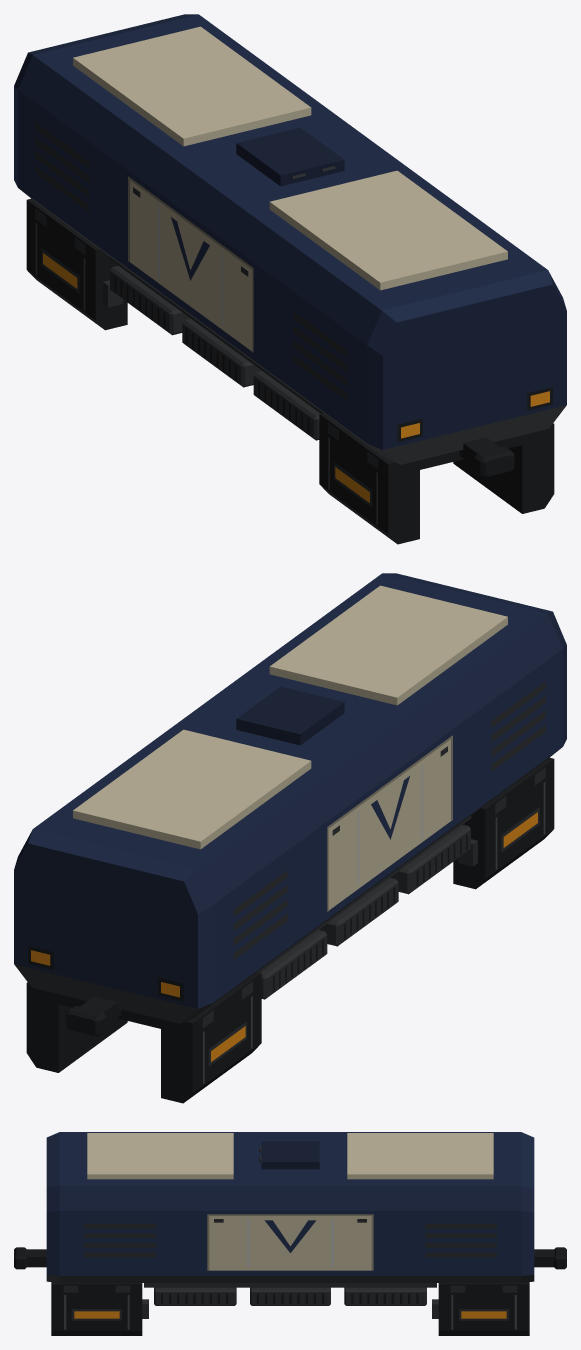
The model's file is colony-cargo.glb.
3 views of the same model, one above another, from view 1: azimuth 30°, elevation 25°; view 2: azimuth 150°, elevation 25°; view 3: azimuth 270°, elevation 25° (orthographic). The views are drawn at different scales.
Visible parts, largest first — view 1: colony-cargo (×2); view 2: colony-cargo (×2); view 3: colony-cargo (×2).
Boxes of the visible parts, x1=… form: colony-cargo (×2): x1=14, y1=14, x2=566, y2=544; colony-cargo (×2): x1=14, y1=573, x2=566, y2=1103; colony-cargo (×2): x1=14, y1=1132, x2=566, y2=1335.
Size of the model in its own units: 9.4 by 10.9 by 34.
